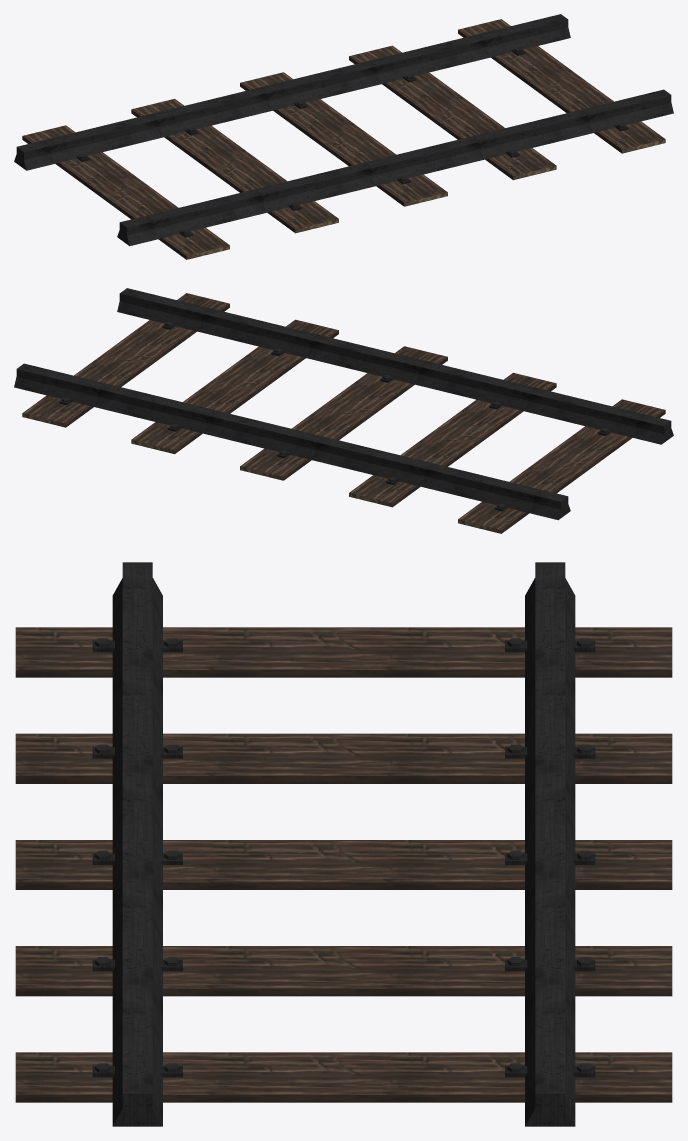
File: locomotive-01-rail-5x.fbx
3 renders of one model, top to bottom at view 1: azimuth 30°, elevation 25°; view 2: azimuth 150°, elevation 25°; view 3: azimuth 270°, elevation 25°, orthographic. The views are drawn at different scales.
Parts seen in each view (by area): view 1: Cube.007; view 2: Cube.007; view 3: Cube.007.
Part boxes in pixels (x1,y1,x2,y2): Cube.007: (14,14,673,259); Cube.007: (14,288,673,533); Cube.007: (15,562,672,1126).
Bounding box in the file's own units: 5 × 0.1799 × 2.61.
